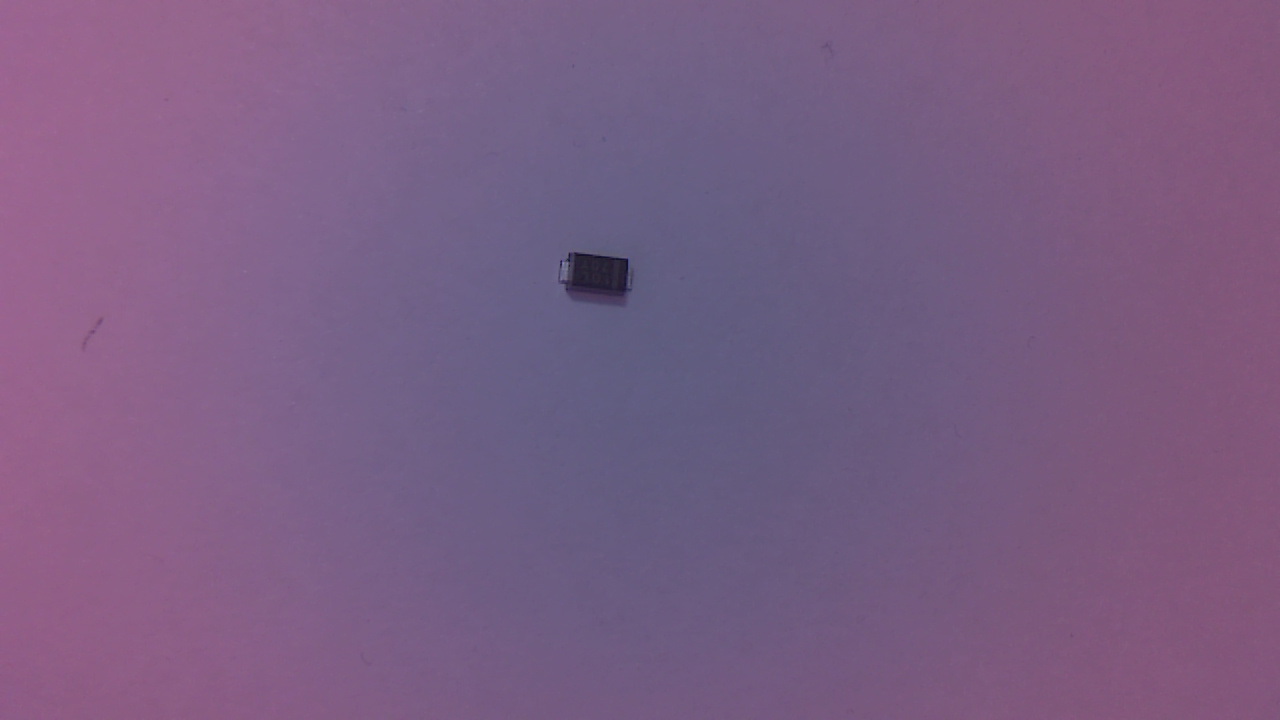Diode: (564, 247, 643, 309)
